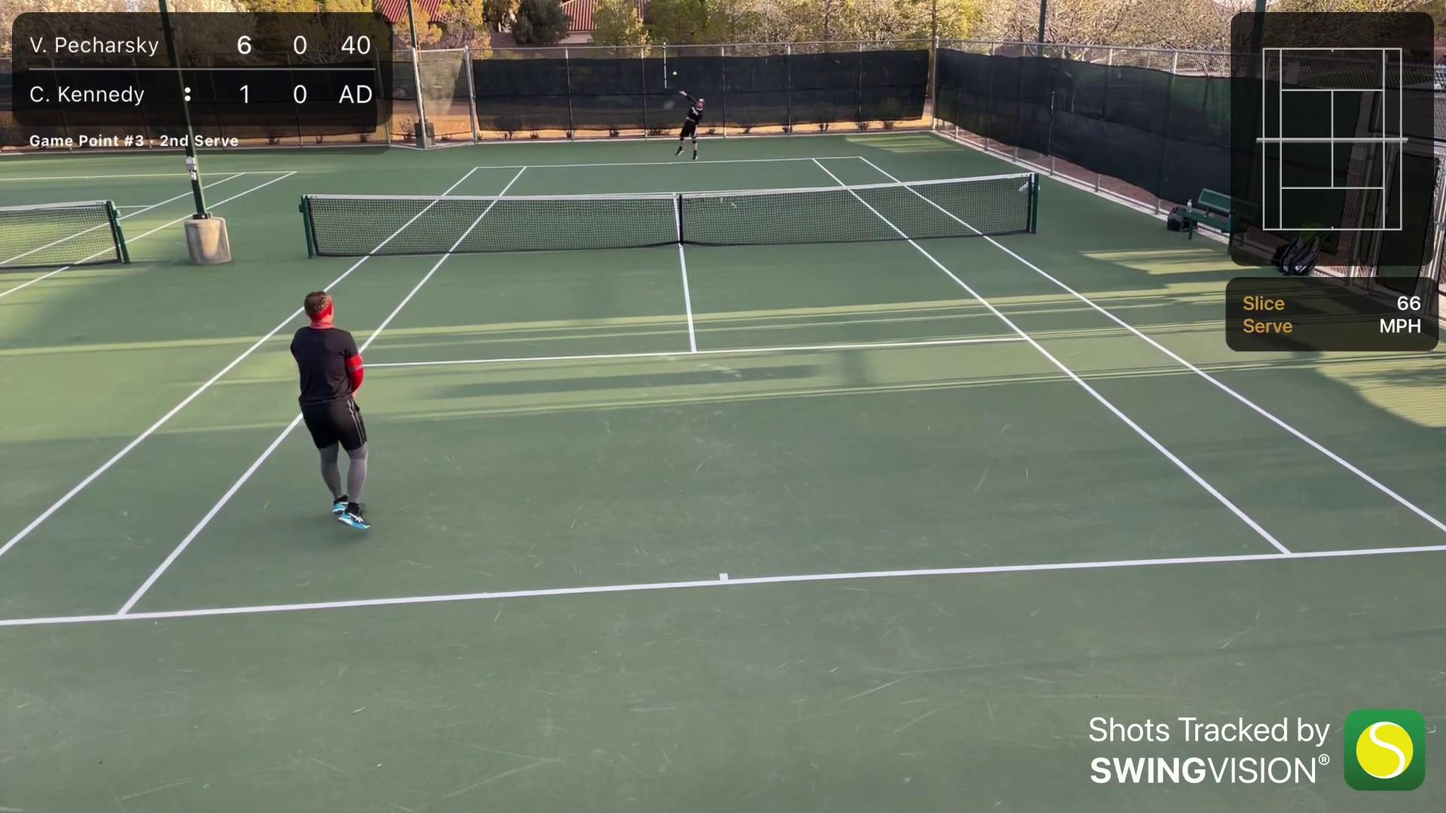ball: (671, 71, 678, 78)
